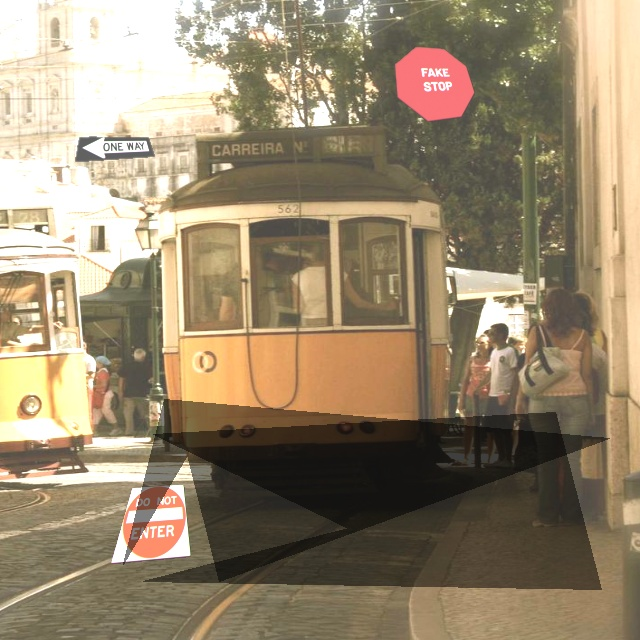DO_NOT_ENTER: (110, 484, 191, 564)
FAKE_STOP: (394, 46, 475, 122)
ONE_WAY_ left: (74, 136, 154, 162)
